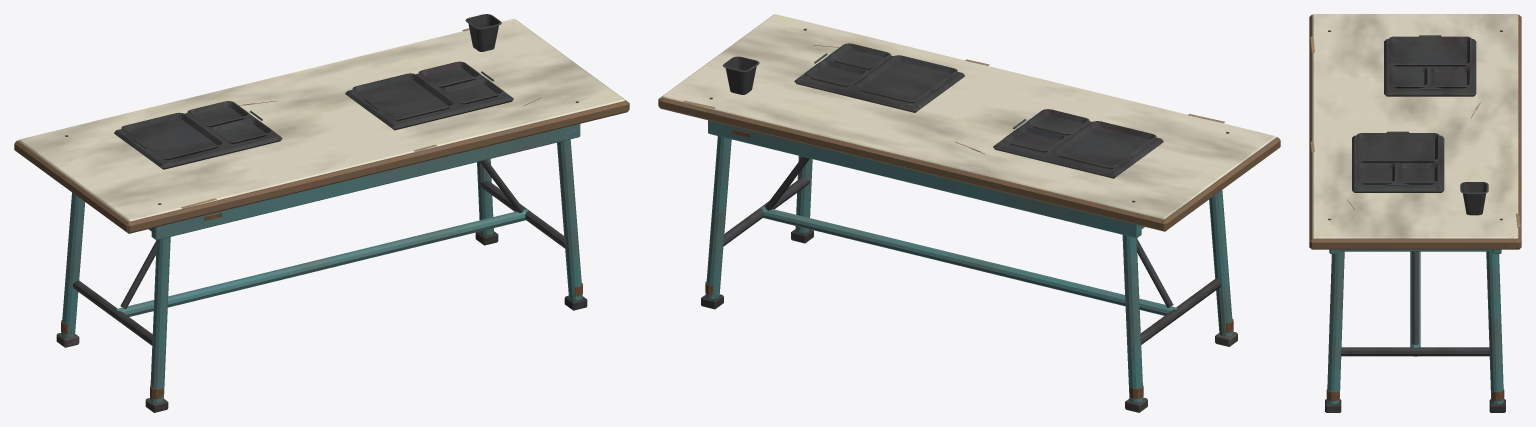
File: S16_cafeteria_table_with_tray.glb
The picture shows the model from 3 angles, left to right: view 1: azimuth 30°, elevation 25°; view 2: azimuth 150°, elevation 25°; view 3: azimuth 270°, elevation 25°; orthographic projection. The views are drawn at different scales.
Parts seen in each view (by area): view 1: Thick plywood tabletop; view 2: Thick plywood tabletop; view 3: Thick plywood tabletop.
Part boxes in pixels (x1=…): Thick plywood tabletop: x1=14, y1=14, x2=629, y2=412; Thick plywood tabletop: x1=658, y1=14, x2=1280, y2=412; Thick plywood tabletop: x1=1309, y1=14, x2=1521, y2=412.
Bounding box in the file's own units: 2 × 0.886 × 0.79.
7 materials, 7 textured.
